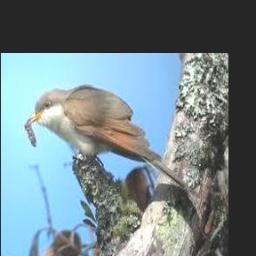Cuckoo: (28, 85, 188, 192)
